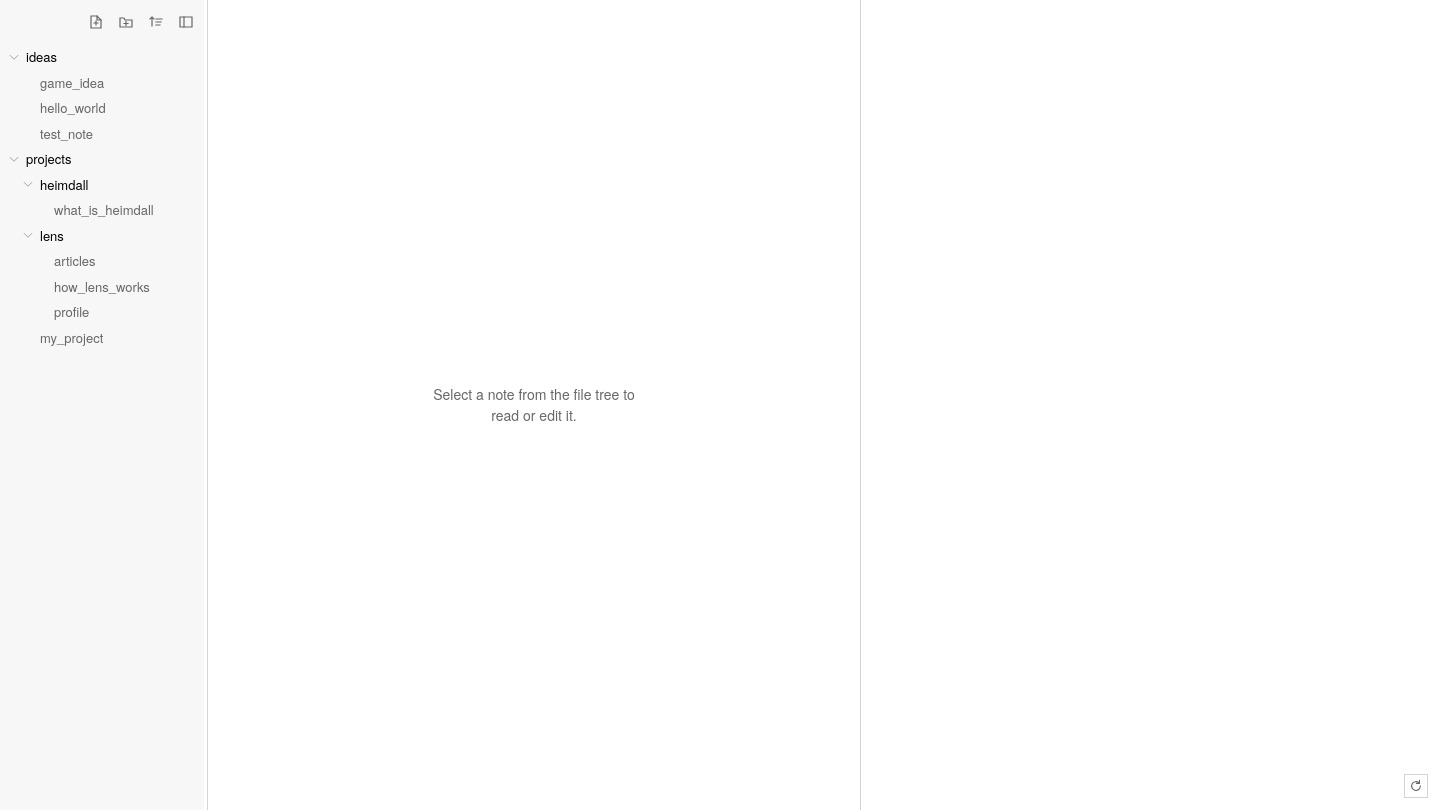
Scenario: a locked note › reports a create refused as LOCKED in a dialog, not the banner
Click the button named "New folder" at (126, 22), box [112,8,140,36]
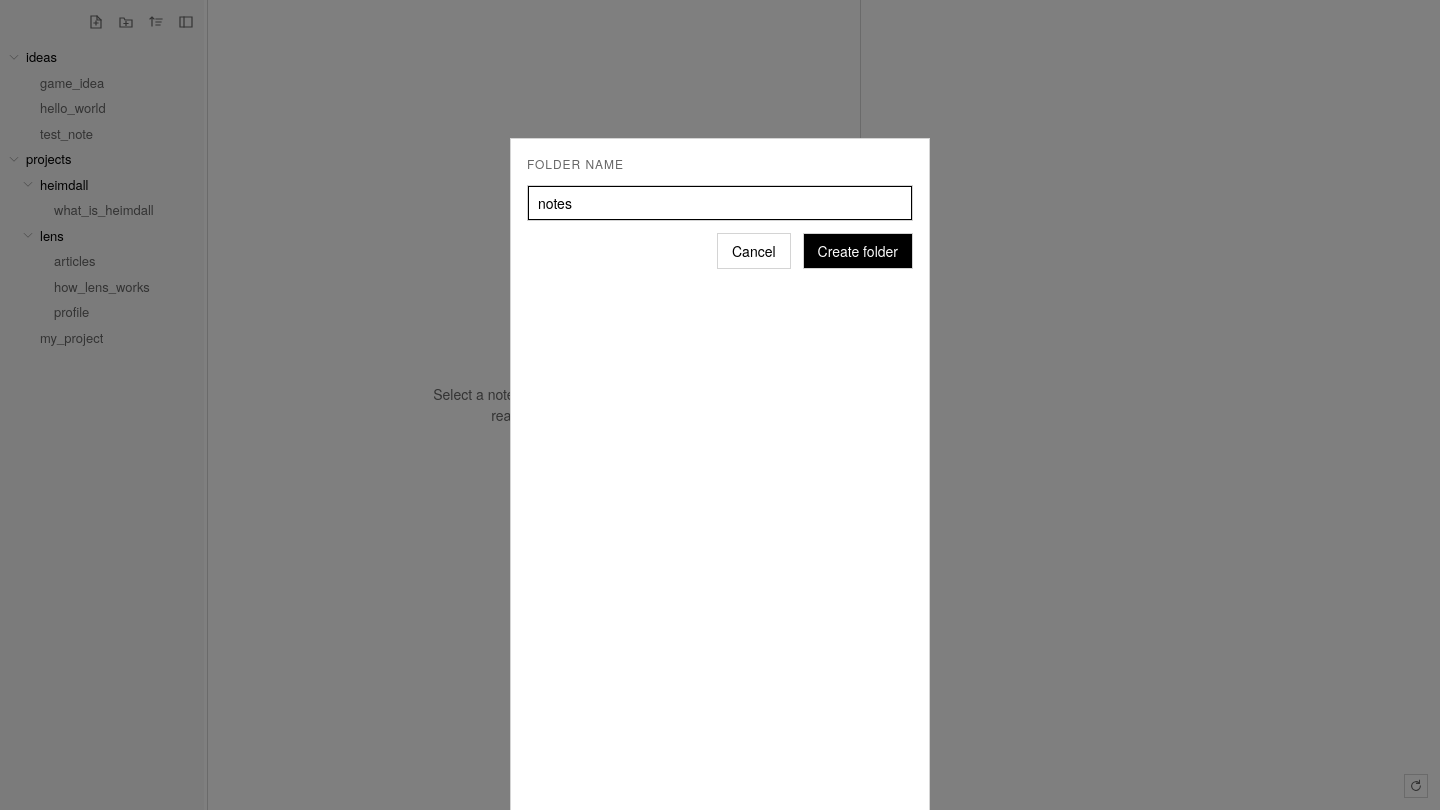
Click the button "Create folder" at (858, 251), box [803,233,913,269]
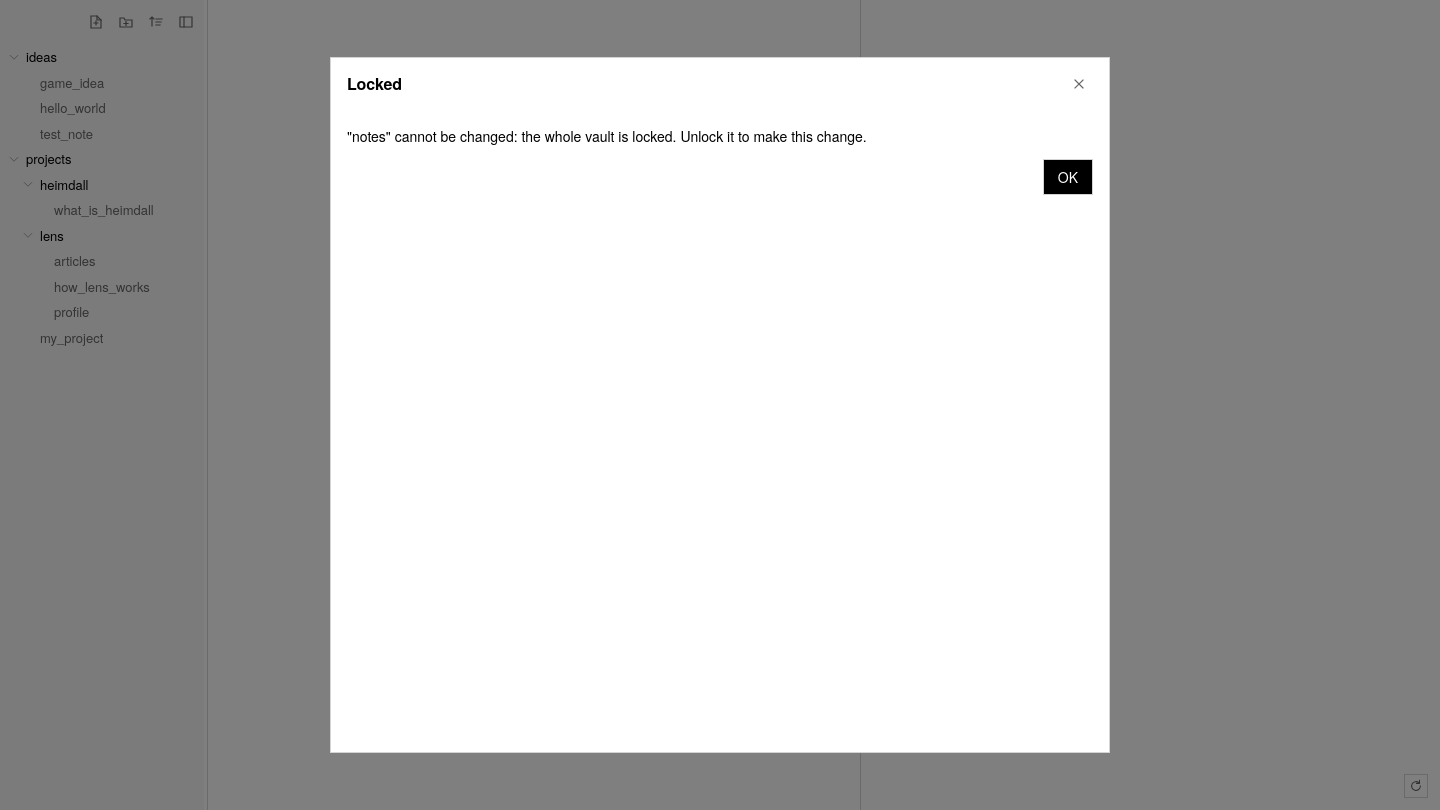
expect the dialog "Locked" shows "the whole vault is locked": met, box [347,126,867,146]
